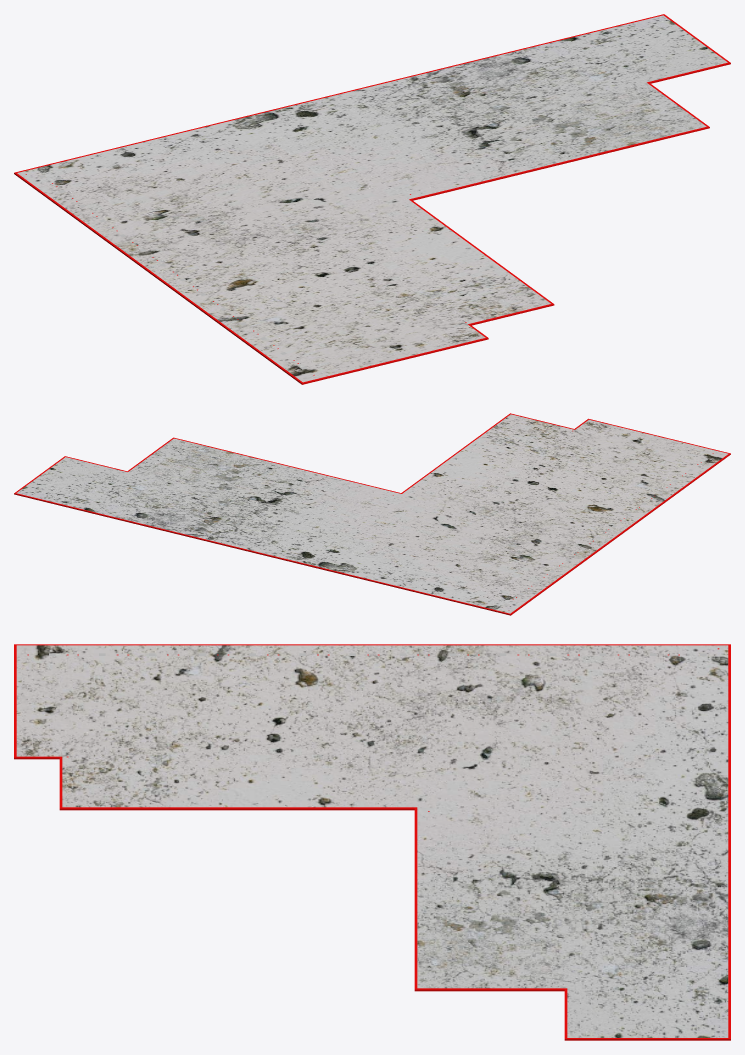
File: floorplan.dae
3 views of the same model, one above another, from view 1: azimuth 30°, elevation 25°; view 2: azimuth 150°, elevation 25°; view 3: azimuth 270°, elevation 25° (orthographic). The views are drawn at different scales.
Visible parts, largest first — view 1: floorplan.002, floorplan.003; view 2: floorplan.002, floorplan.003; view 3: floorplan.002, floorplan.003.
Part boxes in pixels (bbox=[...]): floorplan.002: bbox=[17, 15, 727, 382]; floorplan.003: bbox=[14, 14, 730, 384]; floorplan.002: bbox=[16, 414, 728, 613]; floorplan.003: bbox=[14, 413, 730, 615]; floorplan.002: bbox=[16, 645, 728, 1037]; floorplan.003: bbox=[14, 644, 730, 1040].
Bounding box in the file's own units: 105 × 80.9 × 0.2.
